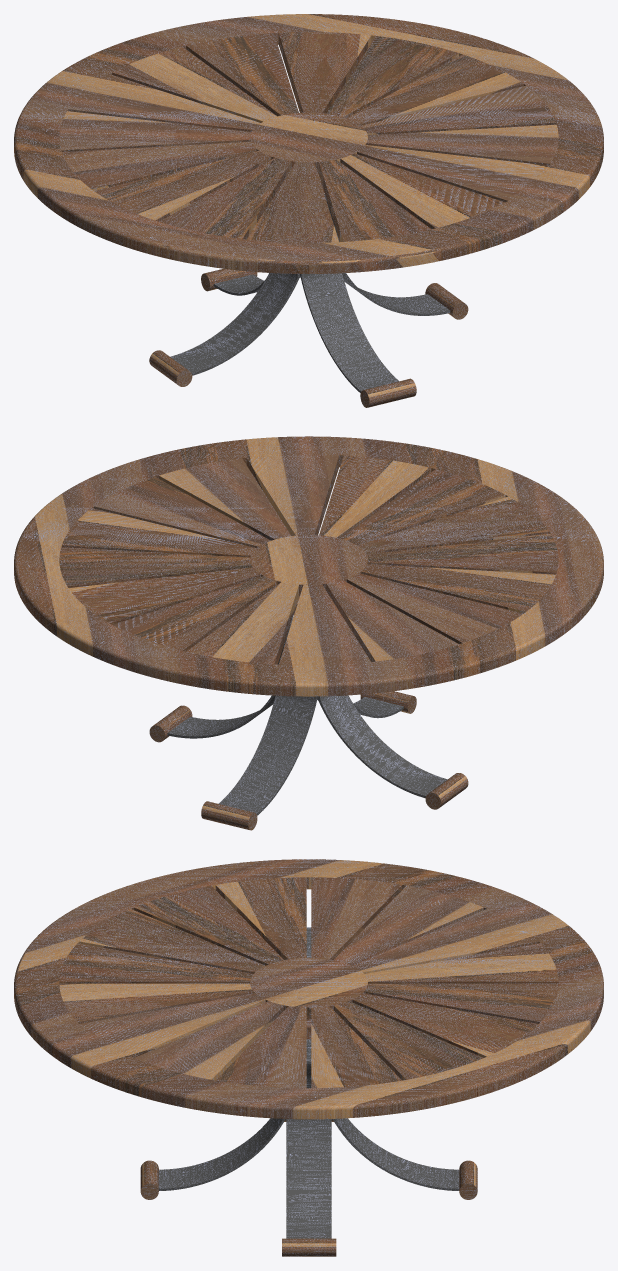
The model's file is WoodenRoundTable.dae.
The picture shows the model from 3 angles, top to bottom: view 1: azimuth 30°, elevation 25°; view 2: azimuth 150°, elevation 25°; view 3: azimuth 270°, elevation 25°; orthographic projection.
Visible parts, largest first — view 1: group_0 (×2), group_2 (×4), Component_2 (×4); view 2: group_0 (×2), group_2 (×4), Component_2 (×4); view 3: group_0 (×2), group_2 (×3), Component_2 (×3).
Part boxes in pixels (x1=…): group_0 (×2): x1=14, y1=14, x2=603, y2=273; group_2 (×4): x1=170, y1=193, x2=450, y2=392; Component_2 (×4): x1=149, y1=268, x2=468, y2=407; group_0 (×2): x1=14, y1=436, x2=603, y2=696; group_2 (×4): x1=167, y1=616, x2=447, y2=815; Component_2 (×4): x1=149, y1=691, x2=468, y2=830; group_0 (×2): x1=14, y1=859, x2=603, y2=1119; group_2 (×3): x1=158, y1=1045, x2=459, y2=1238; Component_2 (×3): x1=140, y1=1160, x2=477, y2=1256.
Size of the model in its own units: 51.18 by 51.18 by 19.7.
